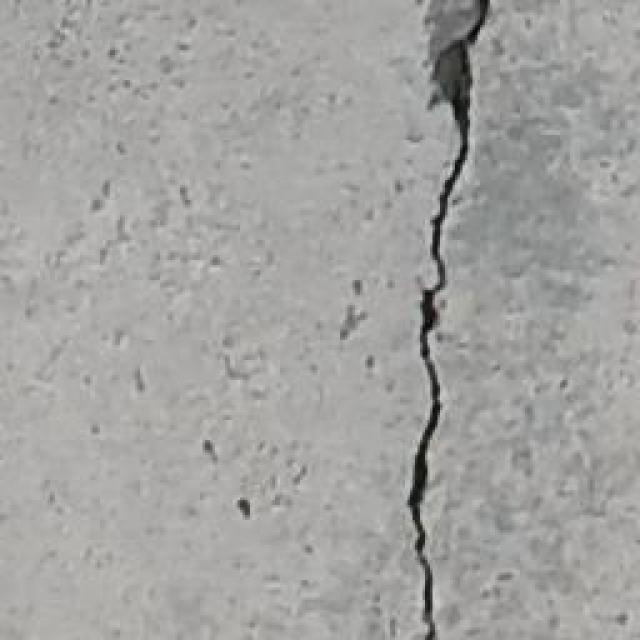concrete-crack: (410, 0, 490, 640)
